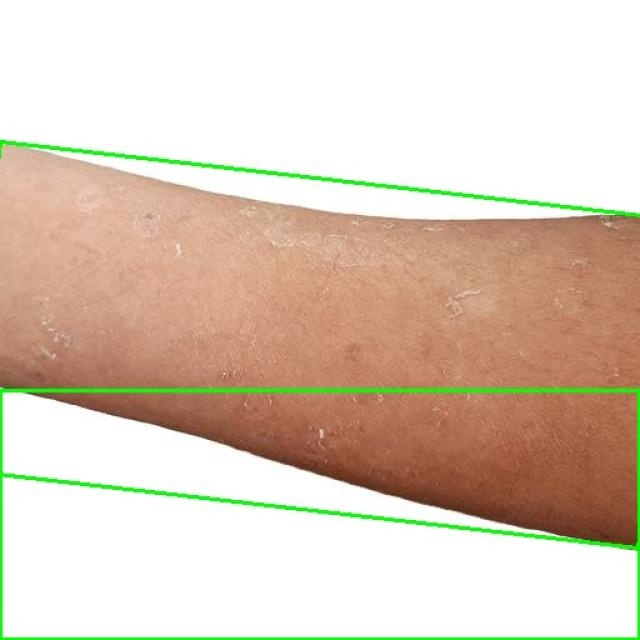Tinea Corporis: (0, 142, 640, 548), (0, 390, 639, 639)
